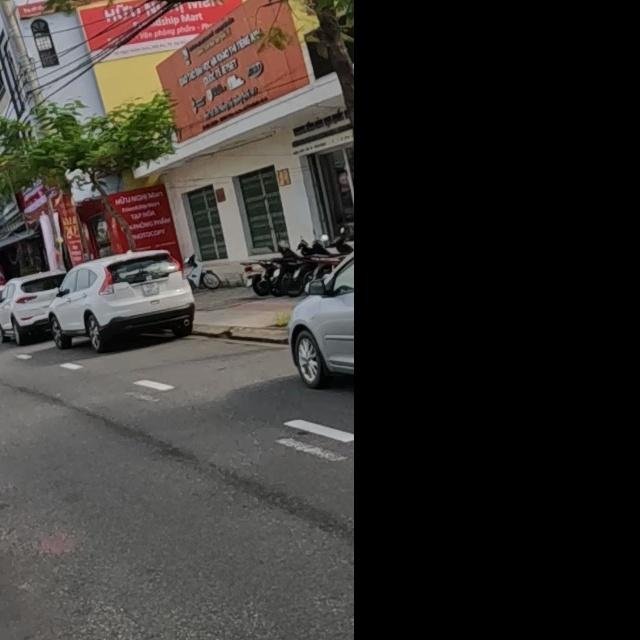license-plate: (141, 281, 160, 297)
